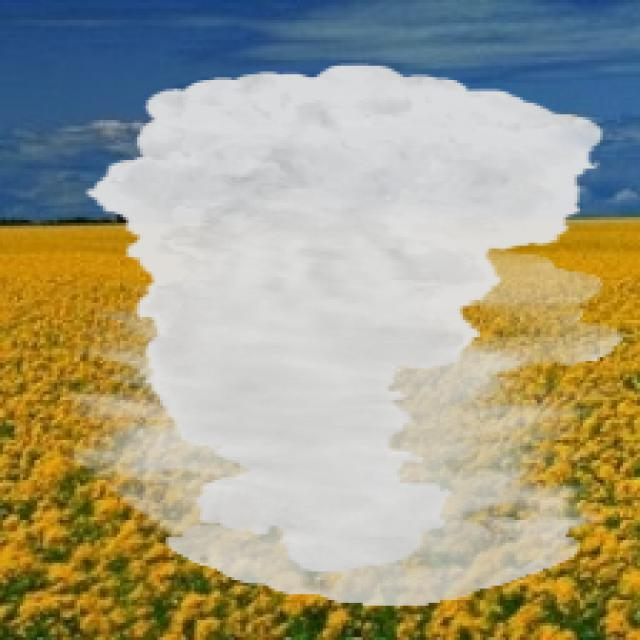smoke: (63, 63, 623, 606)
